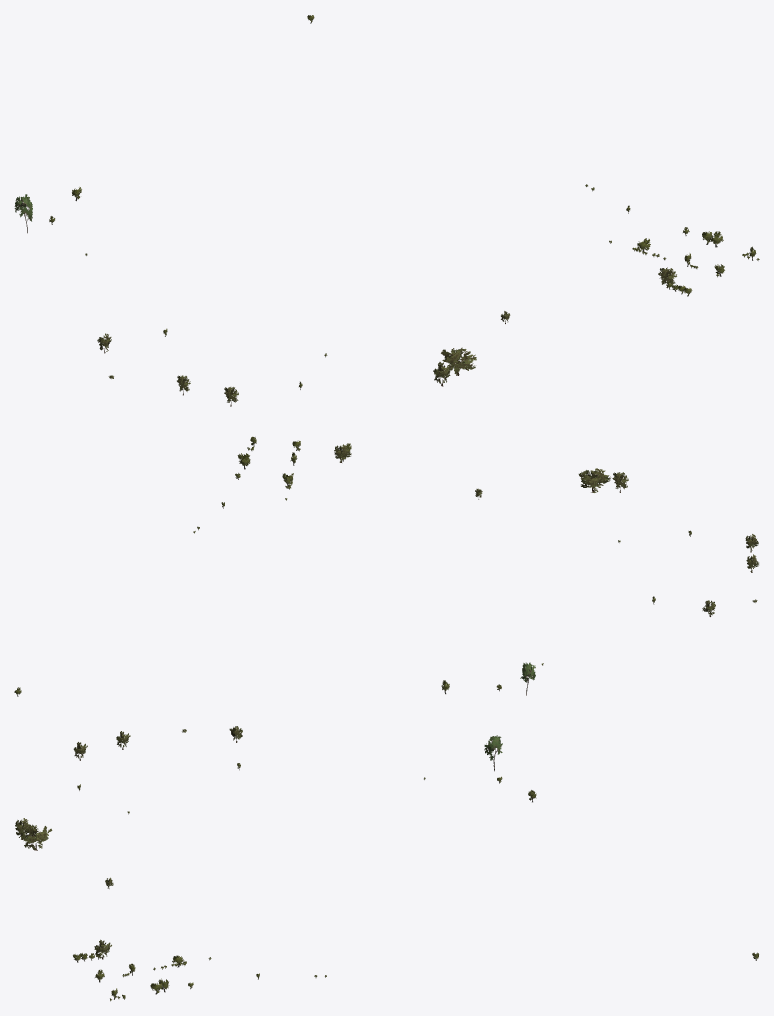
3 views of the same model, one above another, from view 1: azimuth 30°, elevation 25°; view 2: azimuth 150°, elevation 25°; view 3: azimuth 270°, elevation 25° (orthographic). The views are drawn at different scales.
Visible parts, largest first — view 1: jacaranda_tree street foliage, island_tree_01 street foliage; view 2: jacaranda_tree street foliage, island_tree_01 street foliage; view 3: jacaranda_tree street foliage, island_tree_01 street foliage.
Boxes of the visible parts, x1,y1,x2,y2 form: jacaranda_tree street foliage: [97, 267, 676, 402]; island_tree_01 street foliage: [49, 15, 759, 387]; jacaranda_tree street foliage: [334, 444, 758, 615]; island_tree_01 street foliage: [14, 436, 691, 694]; jacaranda_tree street foliage: [15, 726, 242, 957]; island_tree_01 street foliage: [73, 763, 758, 1000].
Bounding box in the file's own units: 343 × 20.92 × 400.
6 materials, 6 textured.
